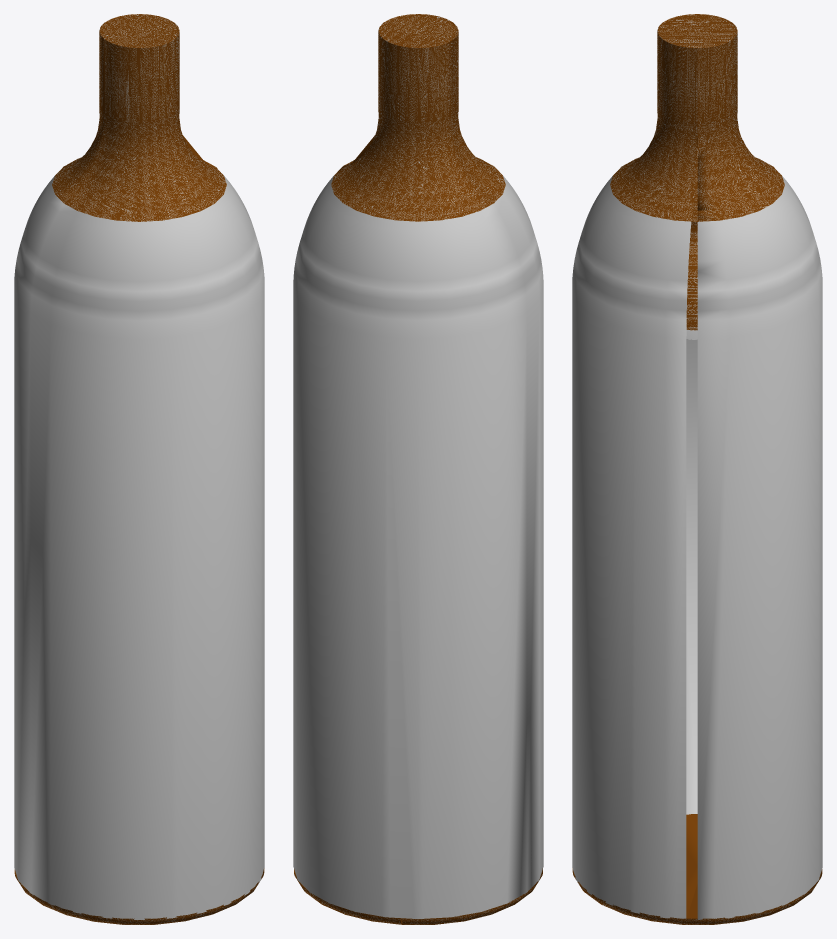
3 renders of one model, left to right at view 1: azimuth 30°, elevation 25°; view 2: azimuth 150°, elevation 25°; view 3: azimuth 270°, elevation 25°, orthographic.
Parts seen in each view (by area): view 1: mesh1_mesh1-geometry; view 2: mesh1_mesh1-geometry; view 3: mesh1_mesh1-geometry.
Part boxes in pixels (x1,y1,x2,y2): mesh1_mesh1-geometry: (14,14,264,924); mesh1_mesh1-geometry: (293,14,543,924); mesh1_mesh1-geometry: (572,14,822,924).
Bounding box in the file's own units: 0.2512 × 0.9348 × 0.251.
